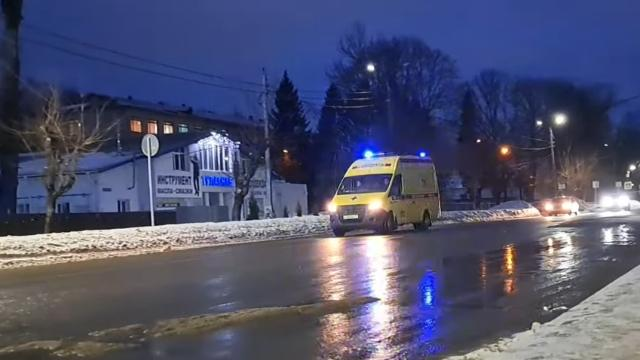intensive care unit: (329, 153, 442, 240)
non emergency car: (544, 195, 580, 218), (600, 193, 633, 216)
